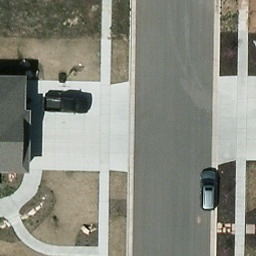car: (200, 167, 219, 211)
pickup: (42, 96, 91, 115)
